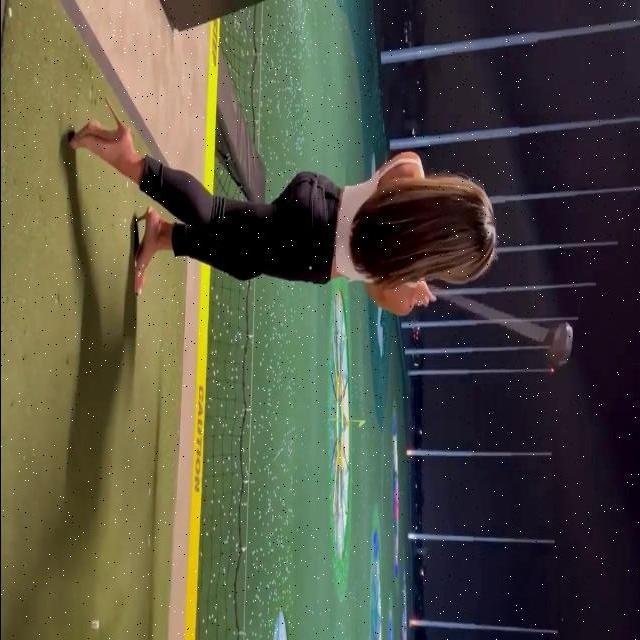golf club-handle: (412, 279, 574, 373)
golf club-head: (549, 322, 572, 369)
